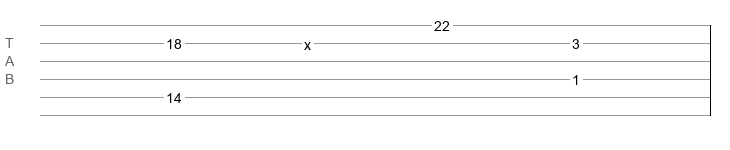1: (572, 72, 580, 82)
14: (166, 90, 182, 100)
18: (166, 36, 182, 46)
22: (434, 18, 450, 28)
3: (572, 36, 580, 46)
x: (304, 37, 311, 45)
